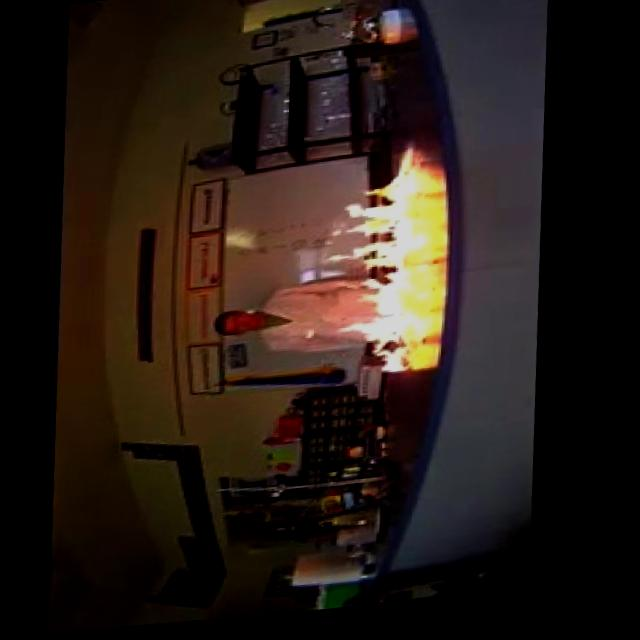Fire: (311, 146, 441, 392)
